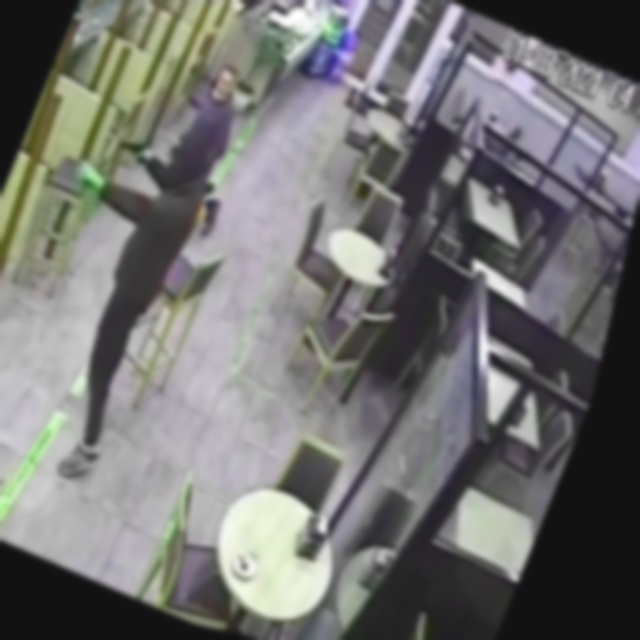gun: (97, 113, 170, 188)
